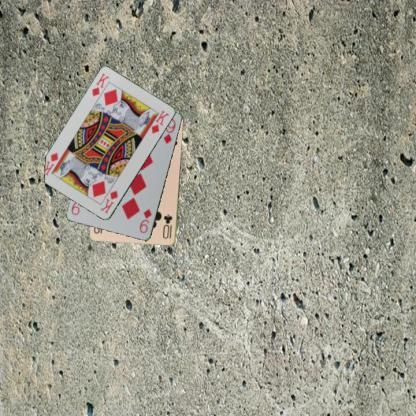10c: (161, 212, 174, 240)
9d: (137, 206, 153, 235)
Kd: (98, 188, 119, 215), (90, 70, 110, 98)
